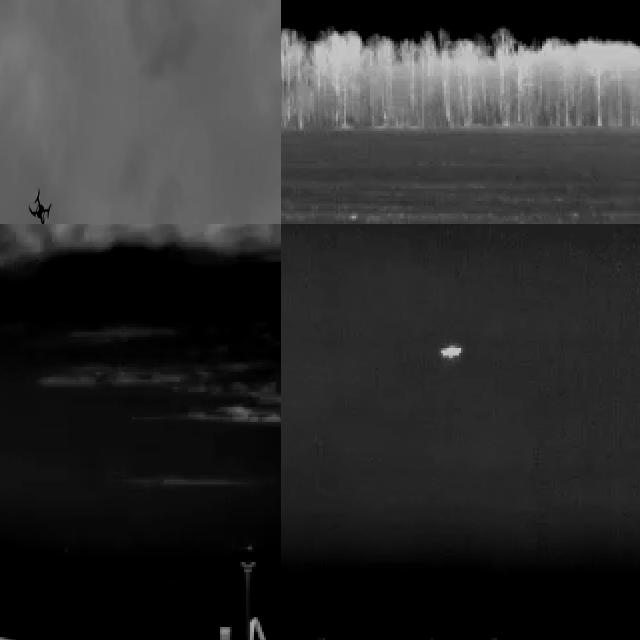0: (228, 534, 262, 564)
1: (428, 339, 462, 367)
drone: (26, 189, 52, 224)
